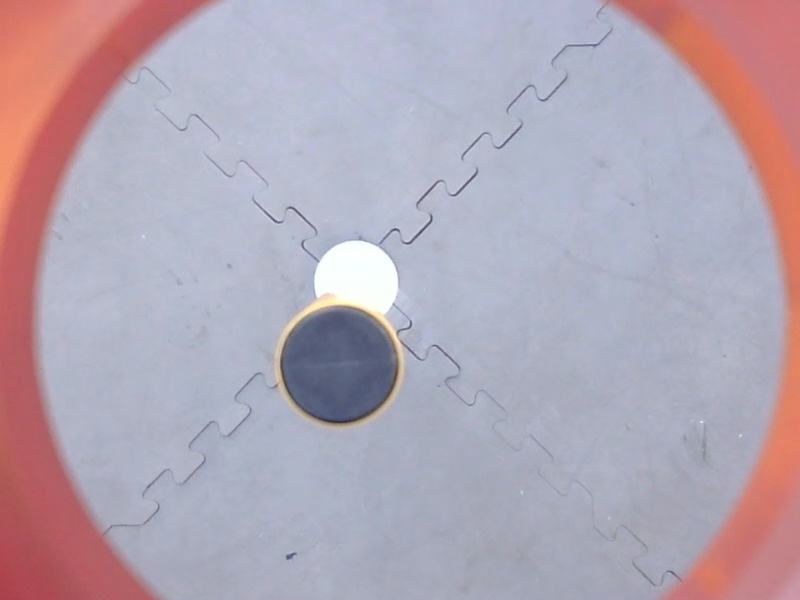tip: (267, 293, 410, 437)
